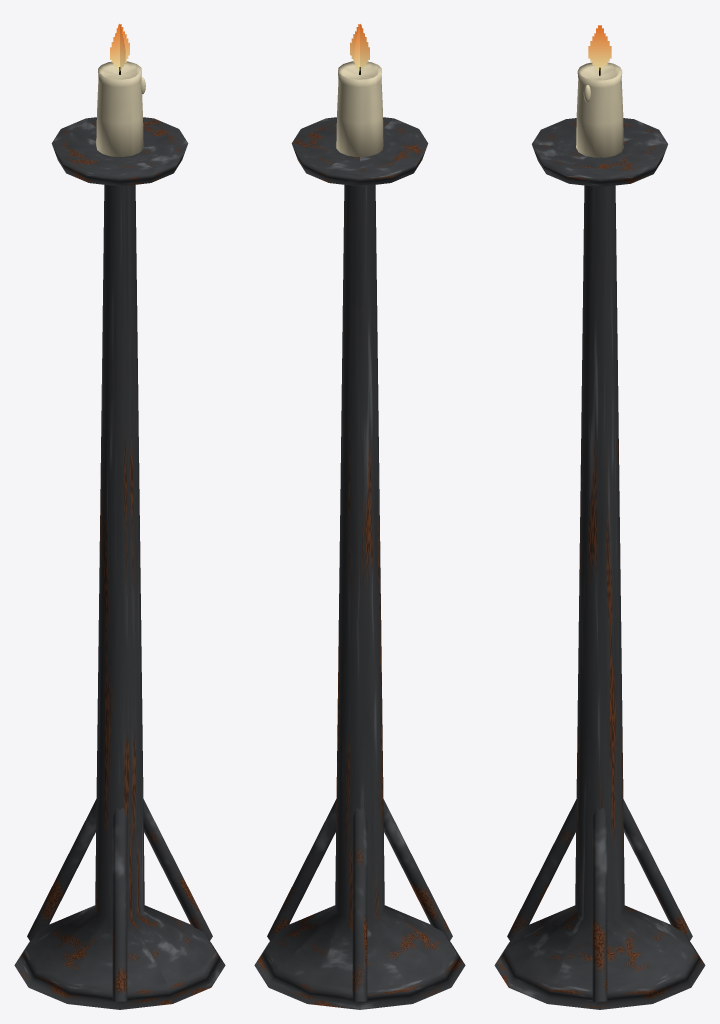
Rendered from torchere.glb.
3 views of the same model, side by side, from view 1: azimuth 30°, elevation 25°; view 2: azimuth 150°, elevation 25°; view 3: azimuth 270°, elevation 25° (orthographic).
Parts seen in each view (by area): view 1: torchere; view 2: torchere; view 3: torchere.
Part boxes in pixels (box(x1,y1,x2,y2)): torchere: box(14, 24, 225, 1009); torchere: box(254, 24, 465, 1009); torchere: box(494, 25, 705, 1009).
Bounding box in the file's own units: 0.3401 × 1.68 × 0.3401.
4 materials, 3 textured.
